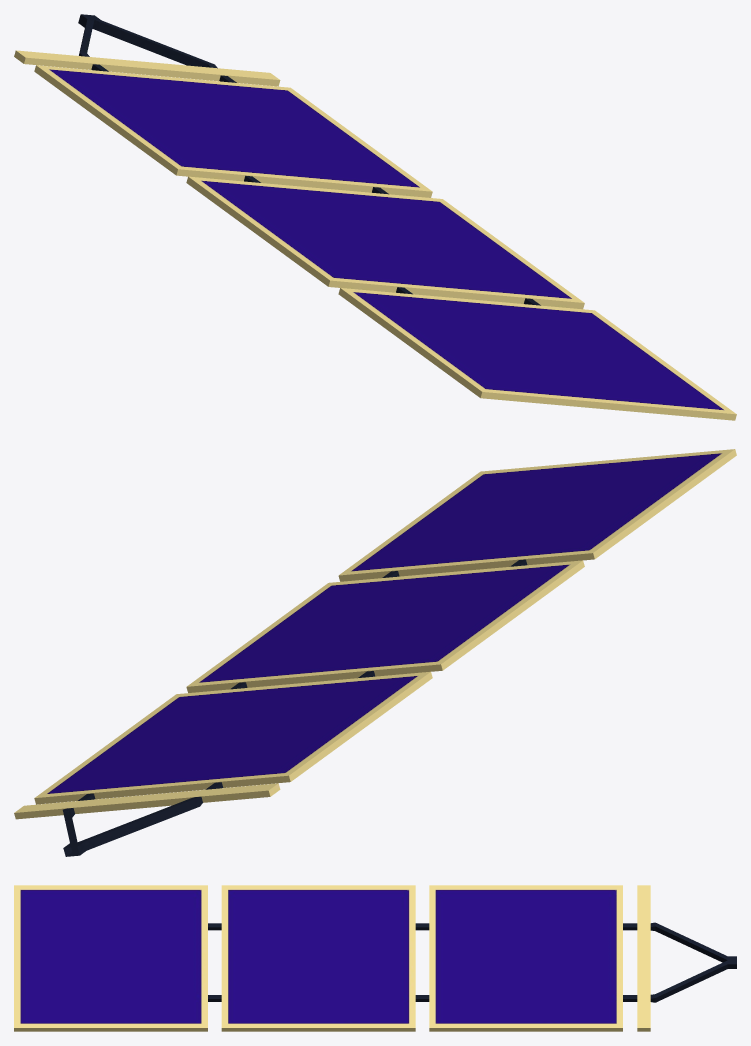
The model's file is panel1.obj.
3 renders of one model, top to bottom at view 1: azimuth 30°, elevation 25°; view 2: azimuth 150°, elevation 25°; view 3: azimuth 270°, elevation 25°, orthographic. The views are drawn at different scales.
Visible parts, largest first — view 1: panel1_Satellite.002; view 2: panel1_Satellite.002; view 3: panel1_Satellite.002.
Part boxes in pixels (x1,y1,x2,y2): panel1_Satellite.002: (14,14,736,420); panel1_Satellite.002: (14,449,736,856); panel1_Satellite.002: (14,885,736,1031).
Size of the model in its own units: 0.4695 by 0.1584 by 1.68.
